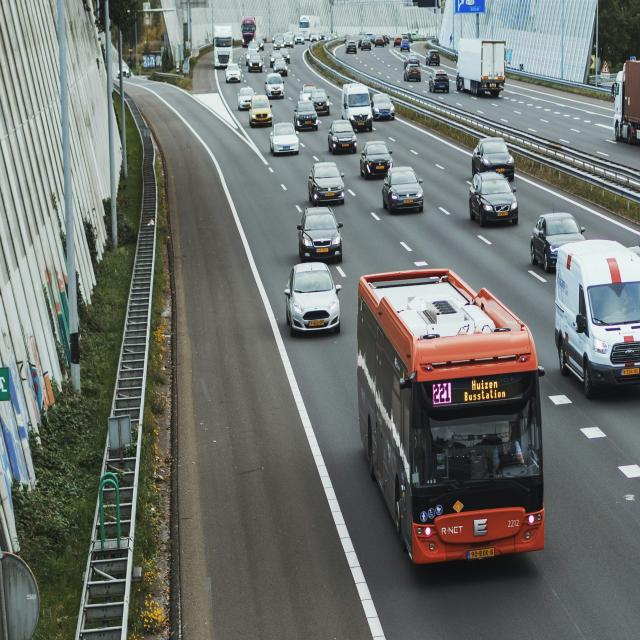Car: (555, 240, 639, 399), (285, 262, 341, 336), (531, 213, 585, 272), (470, 172, 518, 226), (298, 207, 342, 262), (383, 167, 423, 213), (472, 137, 514, 180), (341, 83, 373, 131), (308, 162, 344, 204), (360, 141, 392, 179), (328, 120, 356, 153), (270, 123, 299, 154), (250, 95, 272, 127), (294, 101, 318, 130), (371, 94, 394, 119), (311, 89, 330, 115), (265, 73, 284, 98), (429, 70, 449, 93), (238, 87, 254, 110), (270, 49, 290, 67), (245, 41, 259, 65), (248, 52, 263, 73), (226, 63, 241, 82), (404, 65, 421, 81), (273, 59, 288, 75), (300, 85, 316, 100), (270, 51, 284, 67), (427, 50, 440, 65), (404, 56, 420, 68), (284, 32, 295, 48), (273, 36, 285, 50), (346, 40, 358, 54), (281, 49, 290, 64), (374, 36, 386, 47), (294, 33, 305, 45), (254, 38, 264, 50), (401, 33, 413, 43), (361, 38, 371, 50), (358, 32, 365, 48), (310, 32, 321, 42), (401, 39, 410, 51), (123, 63, 130, 78), (272, 33, 282, 43), (629, 246, 639, 256), (321, 32, 332, 40), (394, 36, 402, 47), (366, 33, 374, 44), (384, 35, 390, 44)
Trucks: (457, 39, 505, 96), (612, 61, 639, 143), (214, 25, 233, 68), (299, 15, 320, 40), (241, 17, 256, 47)
bus: (357, 270, 544, 563)
